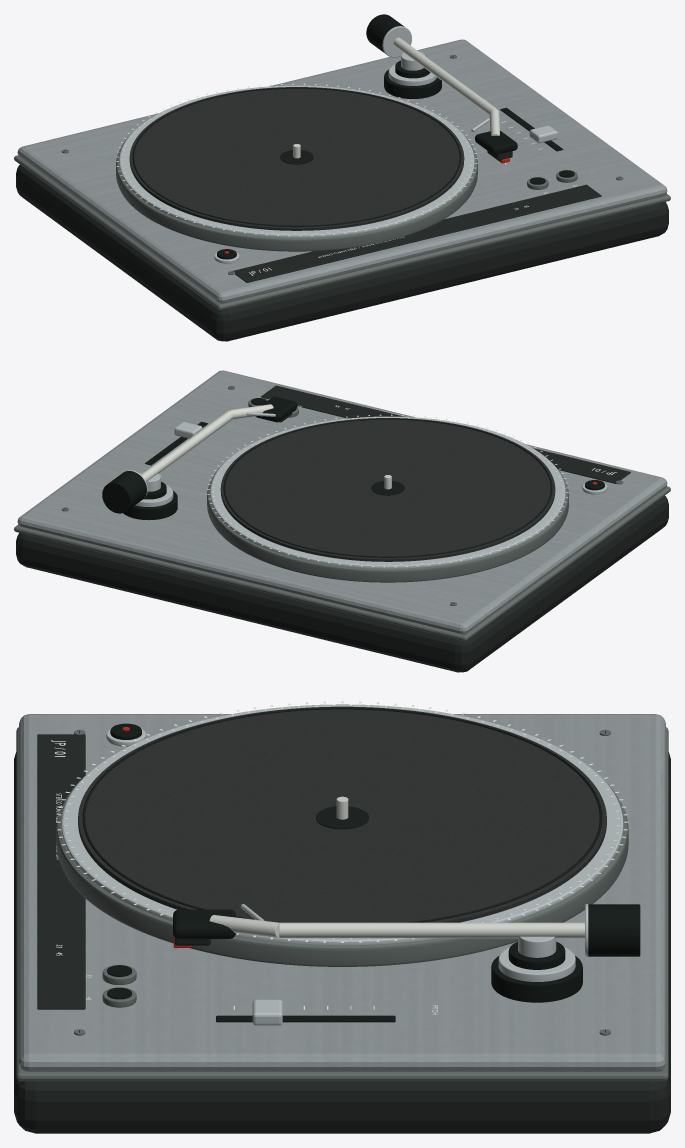
The model's file is tocadiscos.glb.
3 views of the same model, one above another, from view 1: azimuth 30°, elevation 25°; view 2: azimuth 150°, elevation 25°; view 3: azimuth 270°, elevation 25° (orthographic). The views are drawn at different scales.
Visible parts, largest first — view 1: Alfombrilla de goma, Plinto metálico, Chasis inferior, Aro de pie, Borde frontal, Pie de goma, Base del brazo, Tubo del brazo, Contrapeso, Eje del brazo, Puntos estroboscópicos; view 2: Plinto metálico, Alfombrilla de goma, Chasis inferior, Aro de pie, Borde frontal, Contrapeso, Pie de goma, Base del brazo, Tubo del brazo, Puntos estroboscópicos; view 3: Plinto metálico, Alfombrilla de goma, Chasis inferior, Aro de pie, Borde frontal, Tubo del brazo, Base del brazo, Contrapeso, Pie de goma, Eje del brazo, Puntos estroboscópicos.
Boxes of the visible parts, x1,y1,x2,y2 form: Alfombrilla de goma: [129, 87, 464, 230]; Plinto metálico: [17, 39, 667, 303]; Chasis inferior: [16, 164, 668, 341]; Aro de pie: [14, 54, 670, 310]; Borde frontal: [119, 64, 657, 308]; Pie de goma: [132, 87, 461, 226]; Base del brazo: [64, 55, 620, 272]; Tubo del brazo: [393, 37, 506, 165]; Contrapeso: [366, 14, 517, 155]; Eje del brazo: [382, 26, 489, 131]; Puntos estroboscópicos: [116, 83, 542, 236]; Plinto metálico: [17, 370, 667, 634]; Alfombrilla de goma: [220, 418, 555, 561]; Chasis inferior: [16, 385, 668, 672]; Aro de pie: [14, 385, 670, 641]; Borde frontal: [135, 416, 607, 568]; Contrapeso: [102, 396, 297, 513]; Pie de goma: [223, 418, 552, 557]; Base del brazo: [64, 386, 619, 603]; Tubo del brazo: [141, 404, 273, 481]; Puntos estroboscópicos: [207, 414, 568, 567]; Plinto metálico: [19, 714, 665, 1071]; Alfombrilla de goma: [78, 706, 606, 922]; Chasis inferior: [14, 734, 670, 1133]; Aro de pie: [16, 727, 668, 1081]; Borde frontal: [61, 704, 623, 1025]; Tubo del brazo: [173, 915, 584, 949]; Base del brazo: [79, 723, 605, 1032]; Contrapeso: [173, 904, 640, 956]; Pie de goma: [82, 707, 602, 922]; Eje del brazo: [240, 904, 588, 957]; Puntos estroboscópicos: [56, 701, 628, 1009].
Bounding box in the file's own units: 5 × 1.17 × 3.95.
10 materials, 2 textured.
